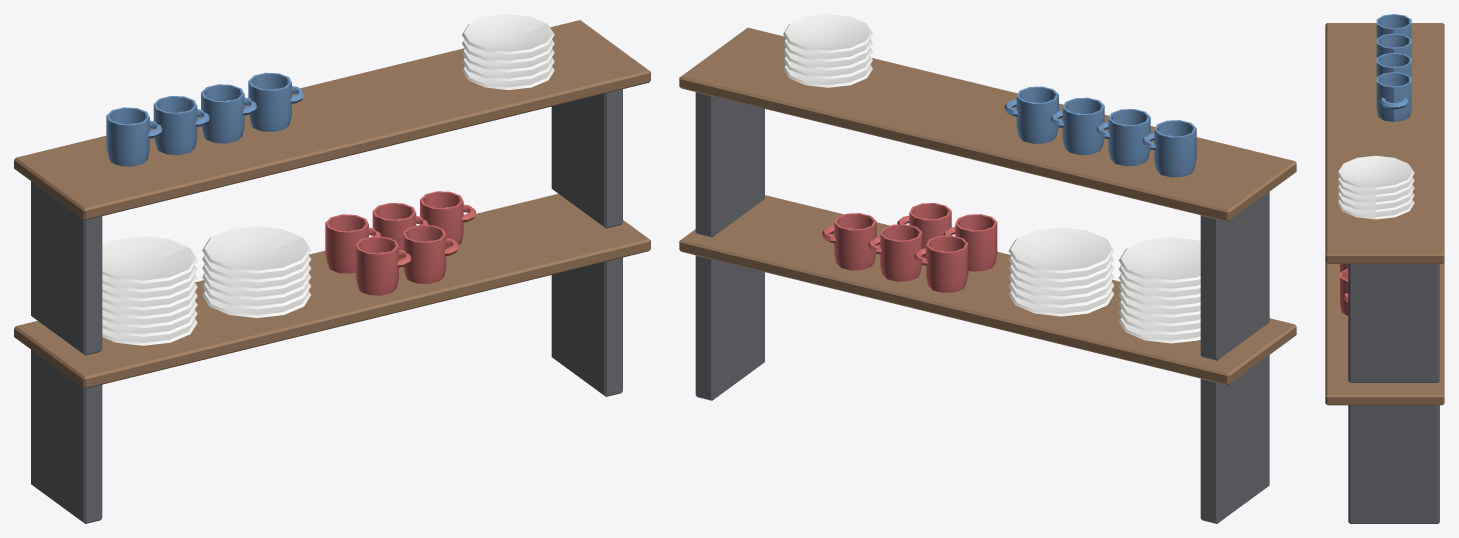
3 renders of one model, left to right at view 1: azimuth 30°, elevation 25°; view 2: azimuth 150°, elevation 25°; view 3: azimuth 270°, elevation 25°, orthographic. The views are drawn at different scales.
Visible parts, largest first — view 1: crockery-shelf; view 2: crockery-shelf; view 3: crockery-shelf.
Boxes of the visible parts, x1,y1,x2,y2 form: crockery-shelf: (14,14,650,523); crockery-shelf: (679,14,1296,523); crockery-shelf: (1325,14,1444,523).
Bounding box in the file's own units: 1.2 × 0.753 × 0.26.
